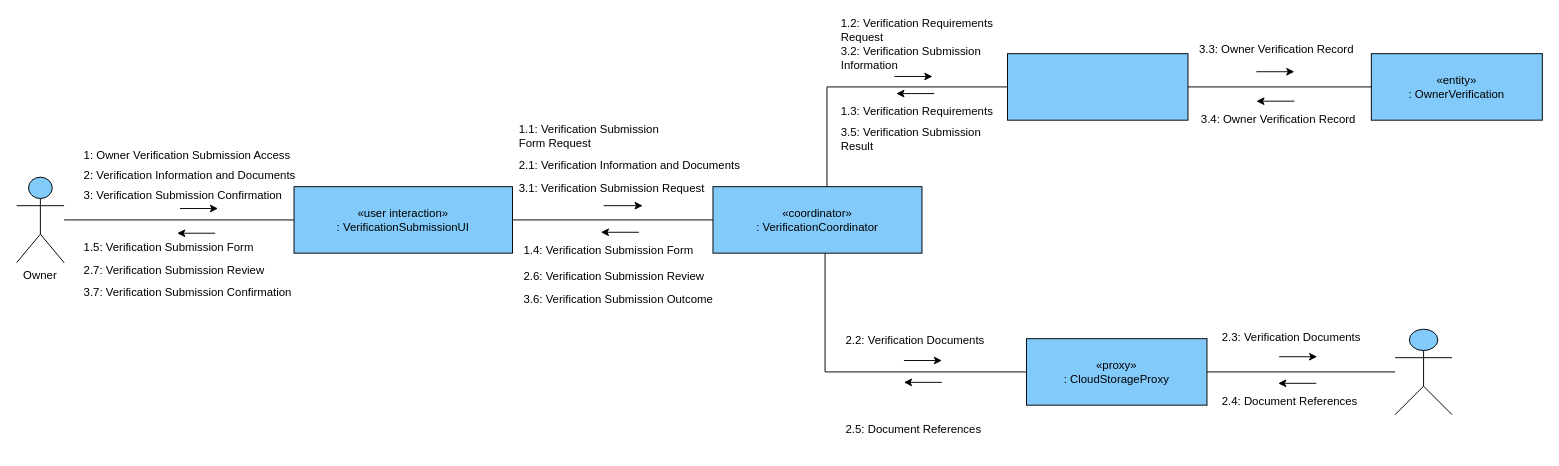
Image size: 1559x466. Some labels were removed from this diagram. Here are the shapes that lost their labels. From the top down, the centre of each, then its label:
At point 1097,86: "«business logic» : VerificationLogic".
At point 1423,371: "Cloud Storage".
